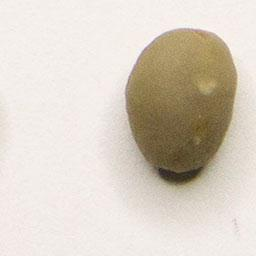peaberry: (118, 24, 241, 177)
